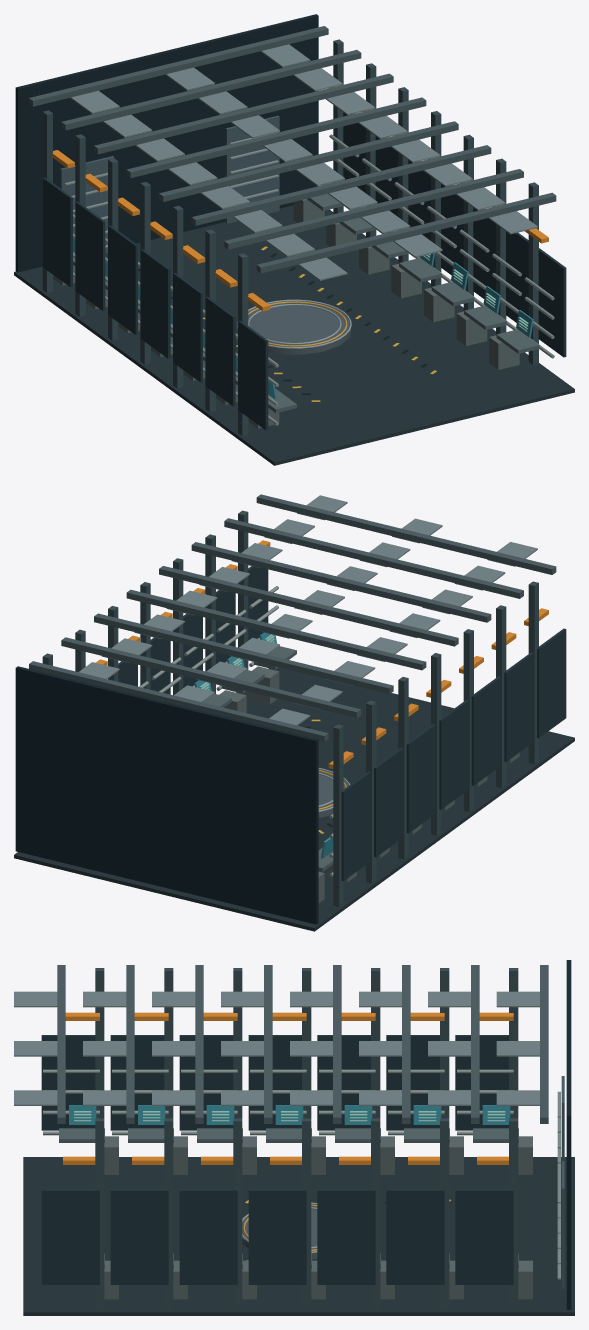
The model's file is industrial-hangar.glb.
3 renders of one model, top to bottom at view 1: azimuth 30°, elevation 25°; view 2: azimuth 150°, elevation 25°; view 3: azimuth 270°, elevation 25°, orthographic. The views are drawn at different scales.
Parts seen in each view (by area): view 1: structure, bay-1-6, bay-1-5, bay--1-6, bay-1-4, display-pad, bay--1-0, bay--1-5, bay--1-3, bay--1-1, bay--1-4, bay--1-2 (+4 smaller); view 2: structure, bay--1-0, bay--1-6, bay--1-4, bay--1-1, bay--1-5, bay--1-3, bay--1-2, bay-1-6, bay-1-5, bay-1-4, bay-1-3 (+2 smaller); view 3: structure, bay-1-0, bay-1-4, bay-1-5, bay-1-6, bay-1-1, bay-1-2, bay-1-3, bay--1-4, bay--1-5, bay--1-6, bay--1-0 (+4 smaller).
Boxes of the visible parts, x1,y1,x2,y2 form: structure: (14,14,574,465); bay-1-6: (489,182,566,369); bay-1-5: (456,158,528,345); bay--1-6: (238,253,296,435); bay-1-4: (424,134,495,322); display-pad: (237,299,351,354); bay--1-0: (42,110,75,292); bay--1-5: (205,229,237,412); bay--1-3: (140,182,172,364); bay--1-1: (75,134,107,316); bay--1-4: (173,205,205,388); bay--1-2: (108,158,140,340); structure: (14,494,574,931); bay--1-0: (318,724,370,907); bay--1-6: (506,581,566,764); bay--1-4: (441,629,501,811); bay--1-1: (326,700,403,883); bay--1-5: (474,605,533,787); bay--1-3: (409,653,468,835); bay--1-2: (376,677,435,859); bay-1-6: (238,510,296,704); bay-1-5: (205,534,264,712); bay-1-4: (173,558,231,707); bay-1-3: (140,582,181,694); structure: (14,960,574,1315); bay-1-0: (455,1118,532,1310); bay-1-4: (179,1118,256,1310); bay-1-5: (110,1118,187,1310); bay-1-6: (41,1118,118,1310); bay-1-1: (386,1118,463,1310); bay-1-2: (317,1118,394,1310); bay-1-3: (248,1118,325,1310); bay--1-4: (179,968,256,1174); bay--1-5: (110,968,187,1174); bay--1-6: (41,968,118,1174); bay--1-0: (455,968,532,1174).
Bounding box in the file's own units: 12 × 7.21 × 18.3.
